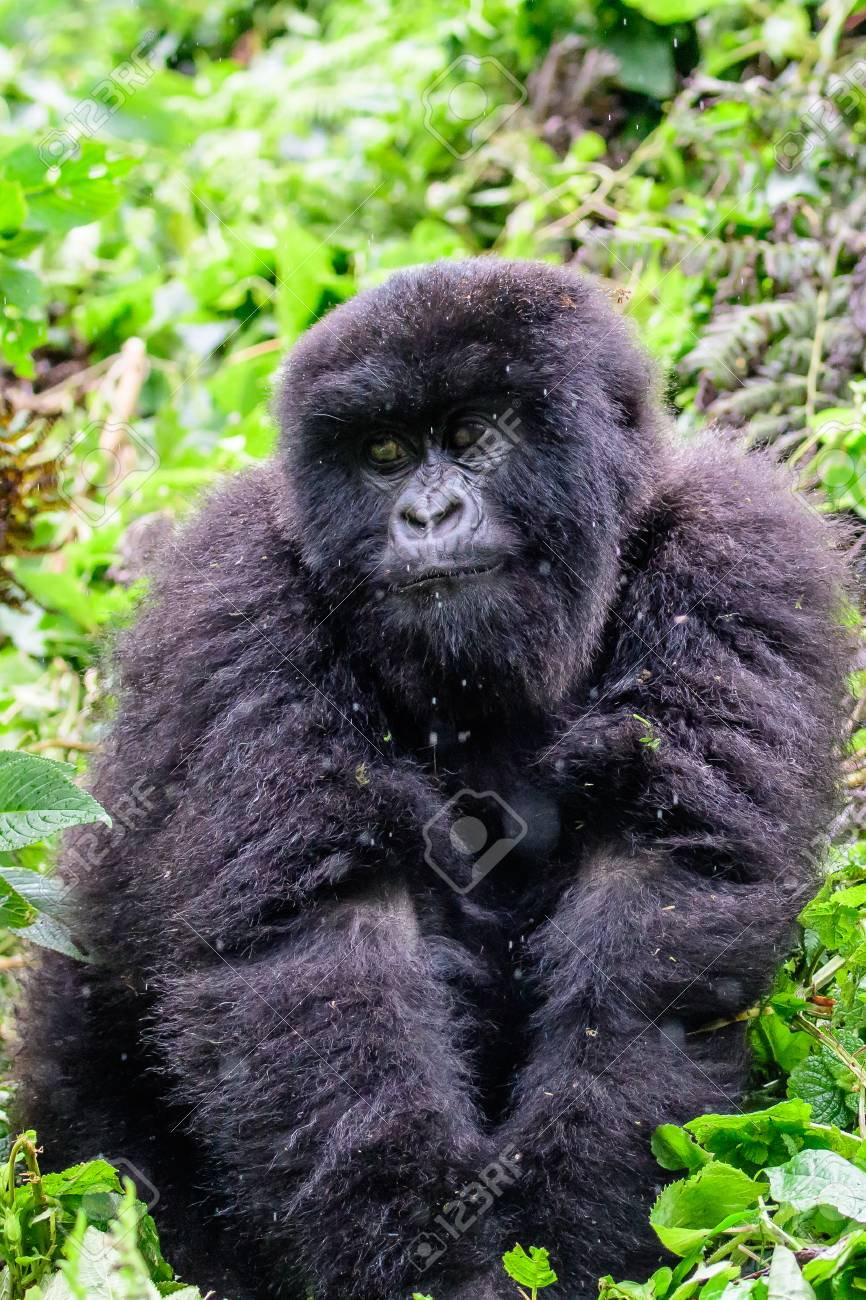Goriila: (108, 188, 864, 1240)
